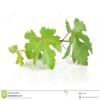grape leaf: (25, 23, 62, 74), (62, 18, 94, 68)
